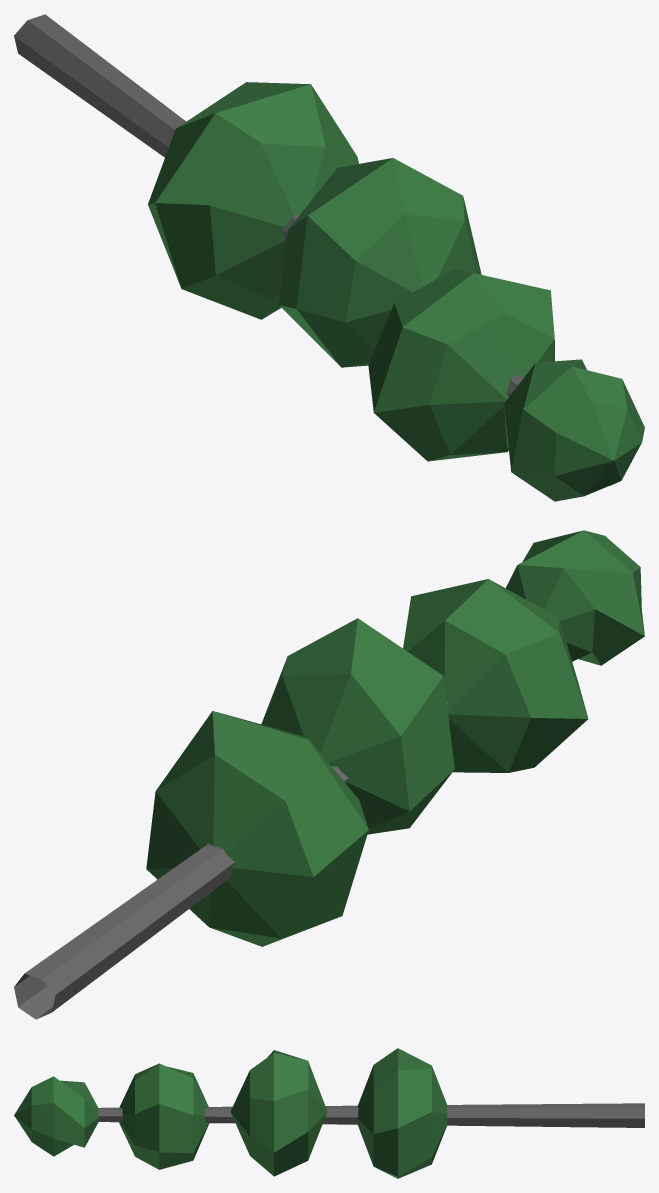
The model's file is growth_1.glb.
3 renders of one model, top to bottom at view 1: azimuth 30°, elevation 25°; view 2: azimuth 150°, elevation 25°; view 3: azimuth 270°, elevation 25°, orthographic. The views are drawn at different scales.
Visible parts, largest first — view 1: tree_06_growth_1; view 2: tree_06_growth_1; view 3: tree_06_growth_1.
Part boxes in pixels (box(x1,y1,x2,y2)): tree_06_growth_1: box(14, 14, 644, 501); tree_06_growth_1: box(14, 530, 644, 1019); tree_06_growth_1: box(14, 1048, 644, 1178).
Size of the model in its own units: 8.03 by 8.65 by 37.73.
